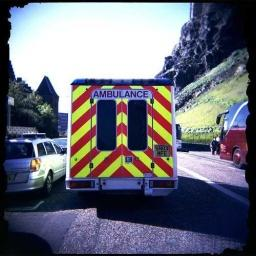Ambulance: (66, 78, 177, 195)
